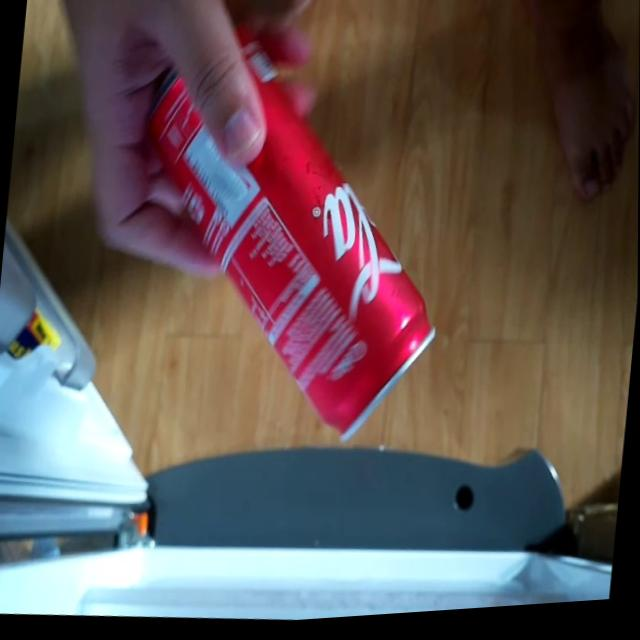coke: (116, 5, 474, 469)
